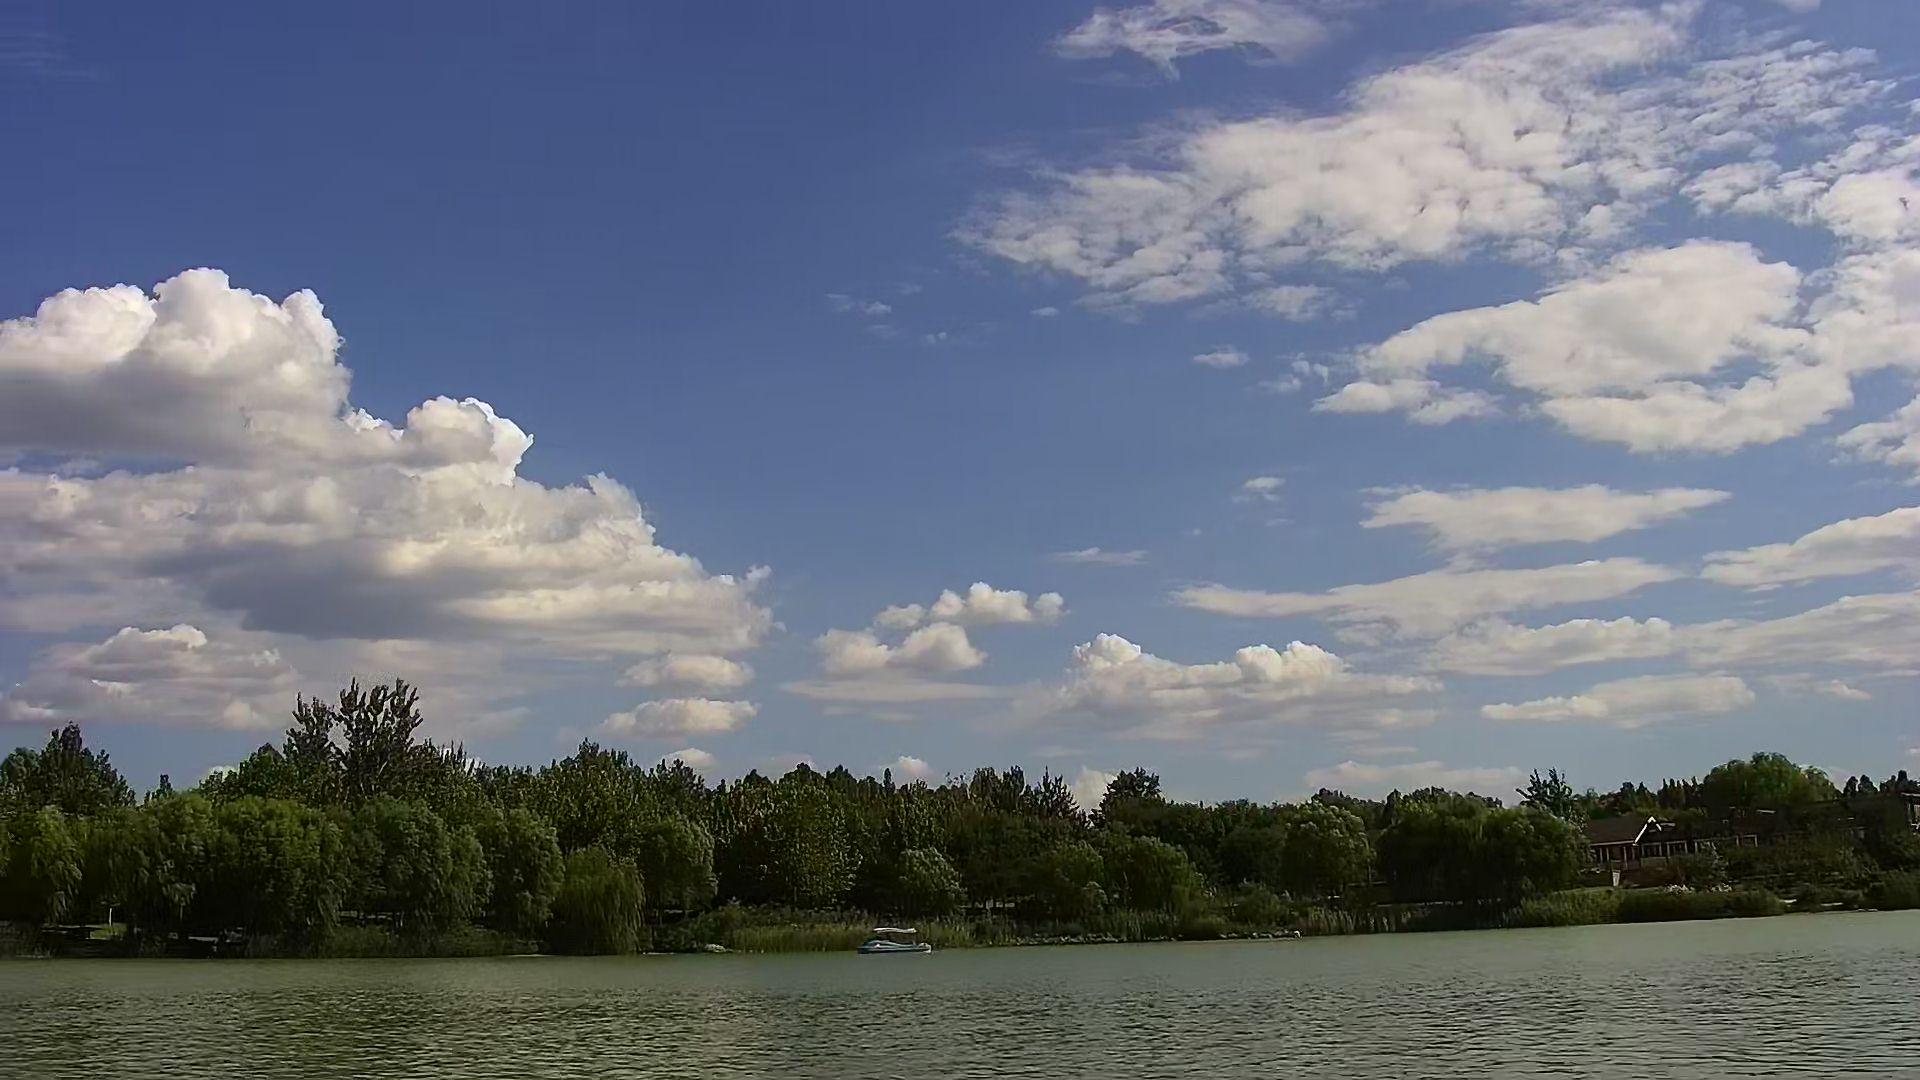boat: (852, 915, 943, 961)
